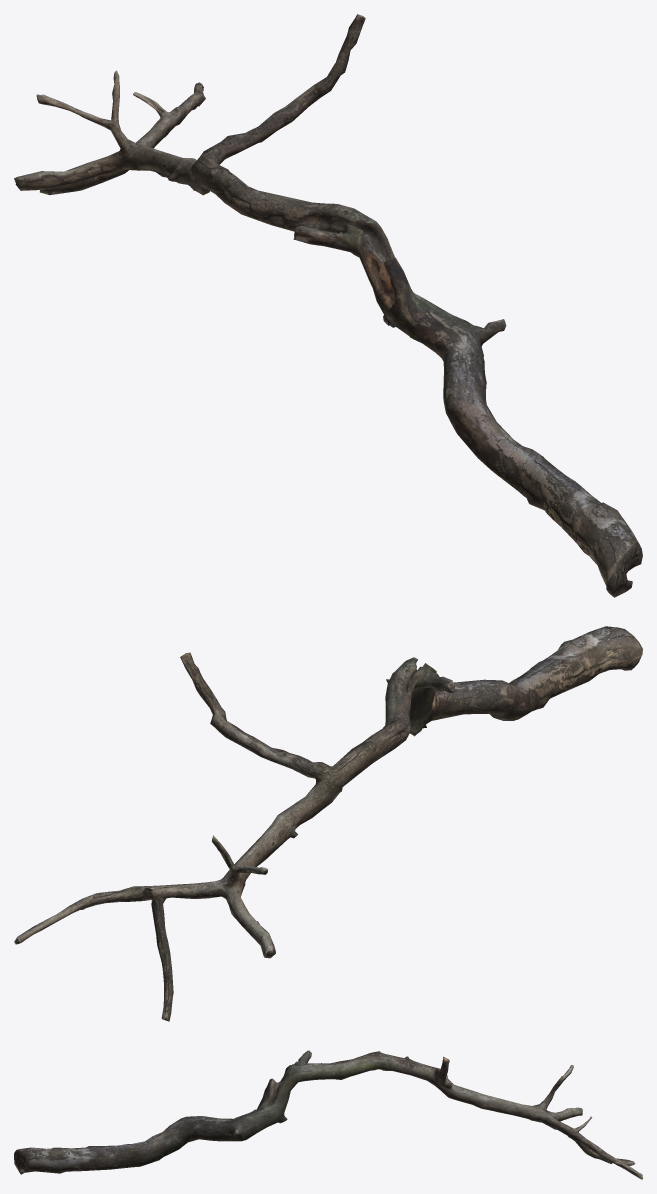
The picture shows the model from 3 angles, top to bottom: view 1: azimuth 30°, elevation 25°; view 2: azimuth 150°, elevation 25°; view 3: azimuth 270°, elevation 25°; orthographic projection. The views are drawn at different scales.
Parts seen in each view (by area): view 1: dry_branches_medium_01__a_lod0; view 2: dry_branches_medium_01__a_lod0; view 3: dry_branches_medium_01__a_lod0.
Part boxes in pixels (<box>): dry_branches_medium_01__a_lod0: <box>14,14,642,597</box>; dry_branches_medium_01__a_lod0: <box>14,626,642,1021</box>; dry_branches_medium_01__a_lod0: <box>14,1050,642,1179</box>.
Size of the model in its own units: 0.3231 by 0.341 by 1.3.
1 material, 1 textured.
